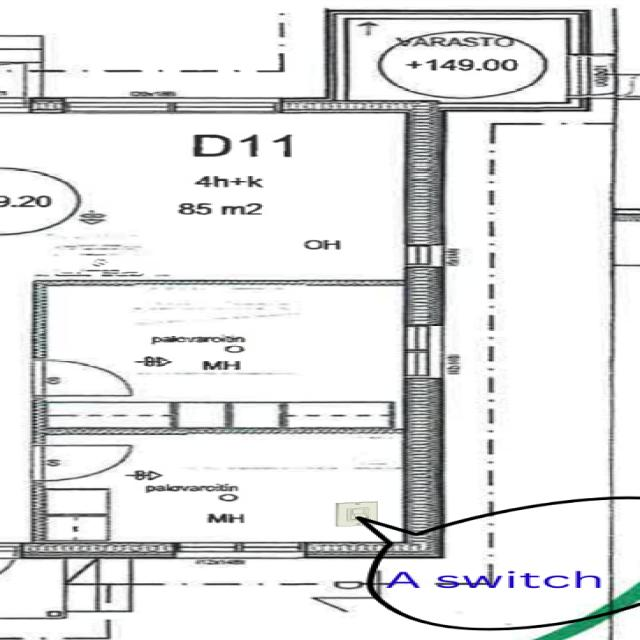switch: (330, 500, 383, 527)
wall: (393, 92, 458, 248), (399, 371, 451, 563), (264, 92, 455, 118), (15, 536, 188, 563), (296, 537, 441, 562), (402, 260, 449, 330)
